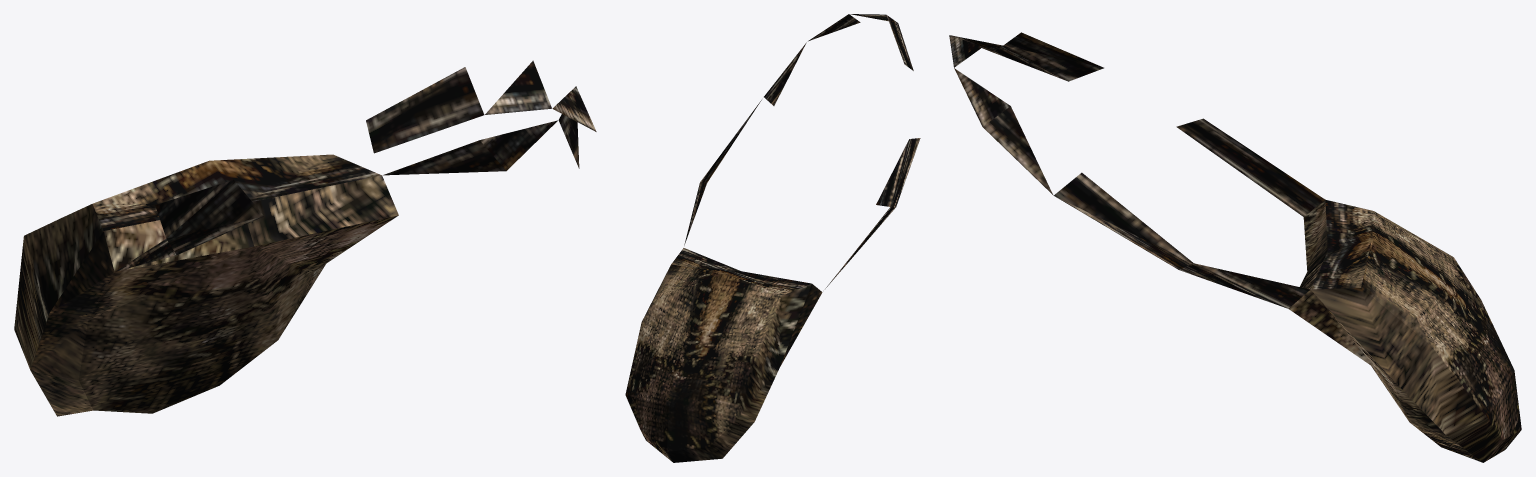
The model's file is torba.glb.
3 renders of one model, left to right at view 1: azimuth 30°, elevation 25°; view 2: azimuth 150°, elevation 25°; view 3: azimuth 270°, elevation 25°, orthographic. The views are drawn at different scales.
Visible parts, largest first — view 1: zengin; view 2: zengin; view 3: zengin.
Part boxes in pixels (left/top/right/bottom): zengin: left=14, top=60, right=596, bottom=416; zengin: left=625, top=14, right=920, bottom=462; zengin: left=949, top=32, right=1521, bottom=462.
Bounding box in the file's own units: 0.366 × 0.6134 × 0.752.
Materials: 1 (1 with a texture image).
